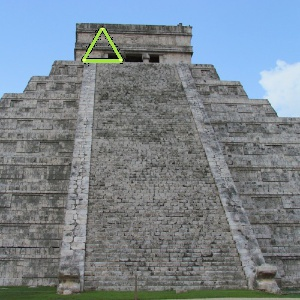triangle: (77, 24, 127, 68)
